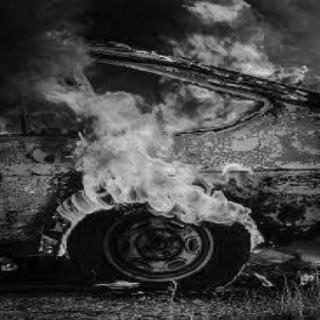Fire: (2, 0, 314, 258), (93, 276, 145, 294), (249, 272, 275, 288)
